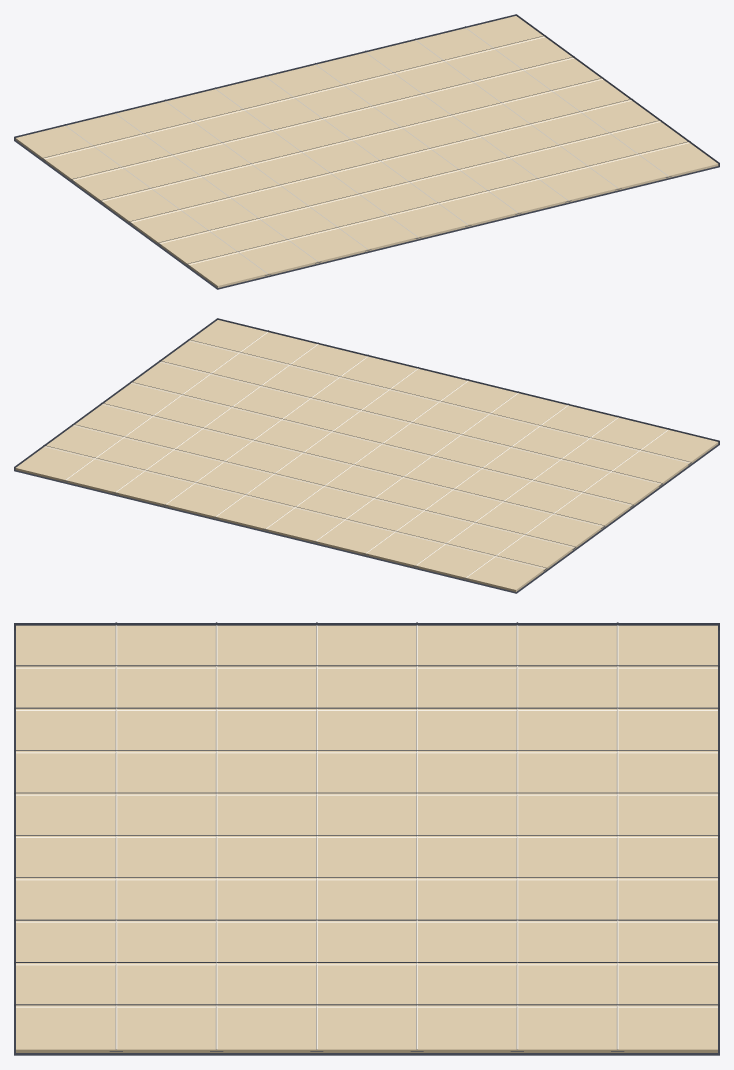
The model's file is town_page_grid.glb.
The picture shows the model from 3 angles, top to bottom: view 1: azimuth 30°, elevation 25°; view 2: azimuth 150°, elevation 25°; view 3: azimuth 270°, elevation 25°; orthographic projection. The views are drawn at different scales.
Parts seen in each view (by area): view 1: page, ink_outline; view 2: page, ink_outline; view 3: page, ink_outline.
Part boxes in pixels (box(x1,y1,x2,y2)): page: box(15, 16, 718, 287); ink_outline: box(14, 14, 719, 289); page: box(15, 320, 718, 591); ink_outline: box(14, 318, 719, 593); page: box(16, 625, 717, 1052); ink_outline: box(14, 622, 719, 1055).
Size of the model in its own units: 10.04 by 0.0893 by 7.04.
